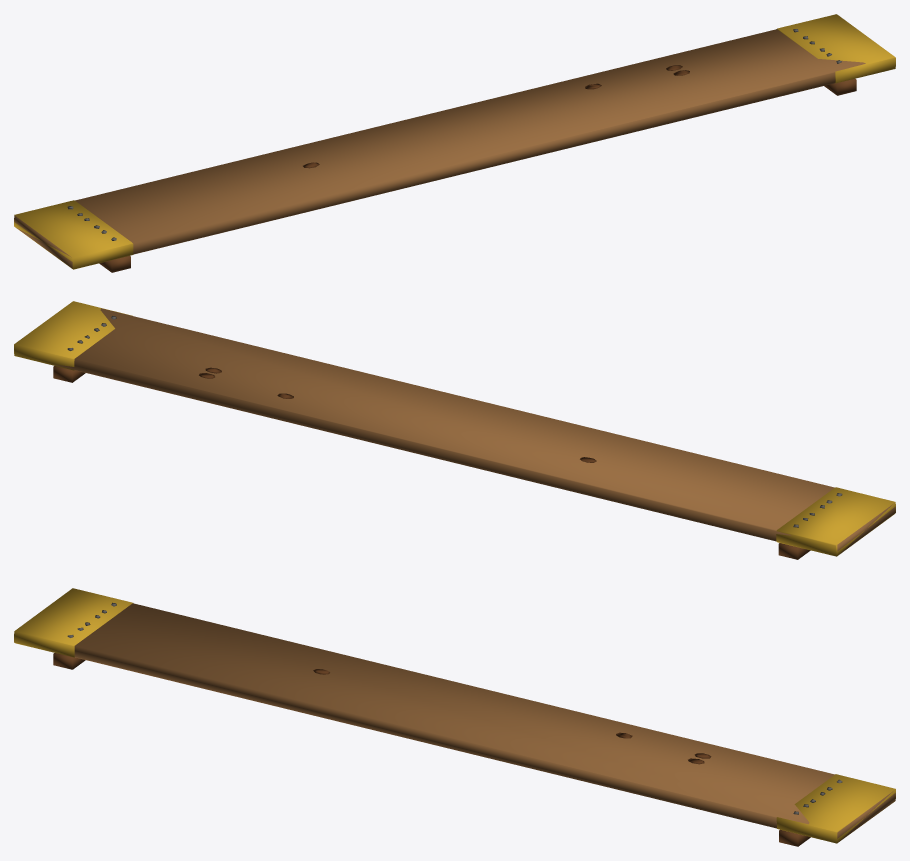
The model's file is van_vua.glb.
3 renders of one model, top to bottom at view 1: azimuth 30°, elevation 25°; view 2: azimuth 150°, elevation 25°; view 3: azimuth 330°, elevation 25°, orthographic.
Visible parts, largest first — view 1: van_vua; view 2: van_vua; view 3: van_vua.
Part boxes in pixels (bbox=[...]): van_vua: bbox=[14, 14, 895, 272]; van_vua: bbox=[14, 301, 895, 559]; van_vua: bbox=[14, 588, 895, 846].
Bounding box in the file's own units: 2 × 0.0614 × 0.2505.
